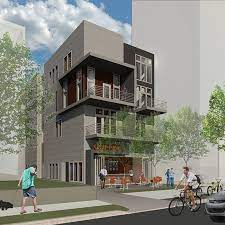Building House: (38, 19, 165, 183)
